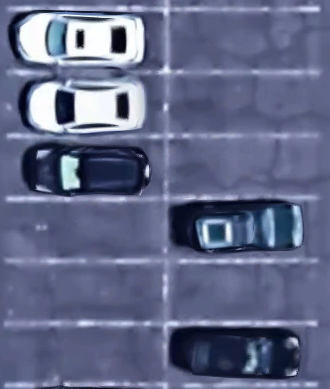Occupied: (6, 7, 167, 73), (7, 72, 167, 136), (6, 137, 166, 198), (167, 198, 317, 262), (165, 324, 317, 384)
Vacant: (4, 198, 167, 262), (167, 7, 320, 73), (4, 263, 165, 324), (167, 71, 319, 135), (4, 324, 165, 384), (167, 136, 319, 198), (165, 262, 316, 323)
